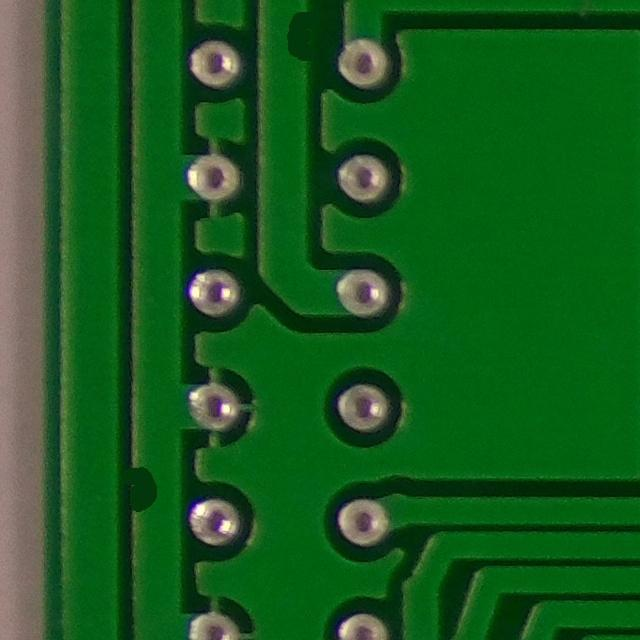mouse_bite: (262, 1, 328, 70), (113, 455, 171, 524)
